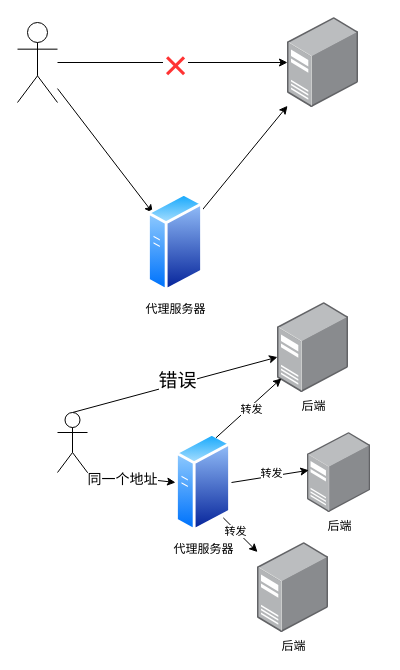
The diagram is 400 pixels wide and 670 high, and some of its shapes have lost their labels. The shapes that lost their labels are listed below. From the top down, each one's box as (x1, y1, x2, y2) in pixels, then its label:
(16, 22, 58, 102): 客户端 （PC)
(287, 17, 358, 107): 后端 （没有办法自己访问）
(56, 412, 88, 472): 客户端 （PC）
